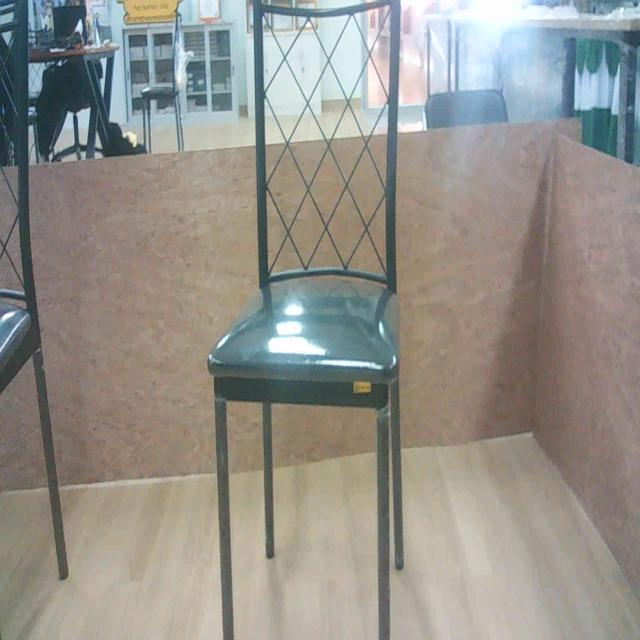emtpy: (217, 0, 406, 640)
